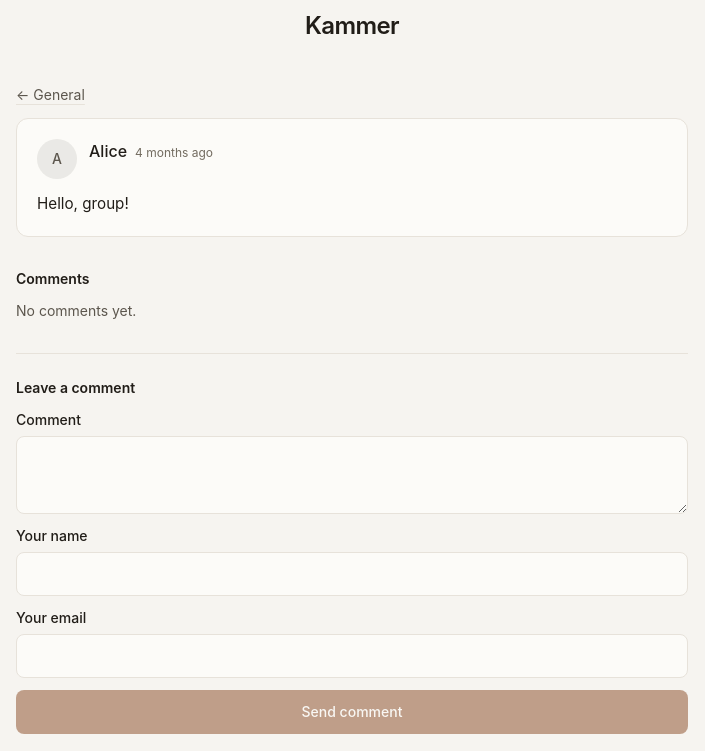
Test: public post page › POSTs the guest comment and shows the neutral confirmation on success
Expected: the text "Hello, group!" is shown, [37,194,129,213]
Step 1. Type "Nice post!" into the text box labelled "Comment" → (352, 475), box [16,436,688,514]
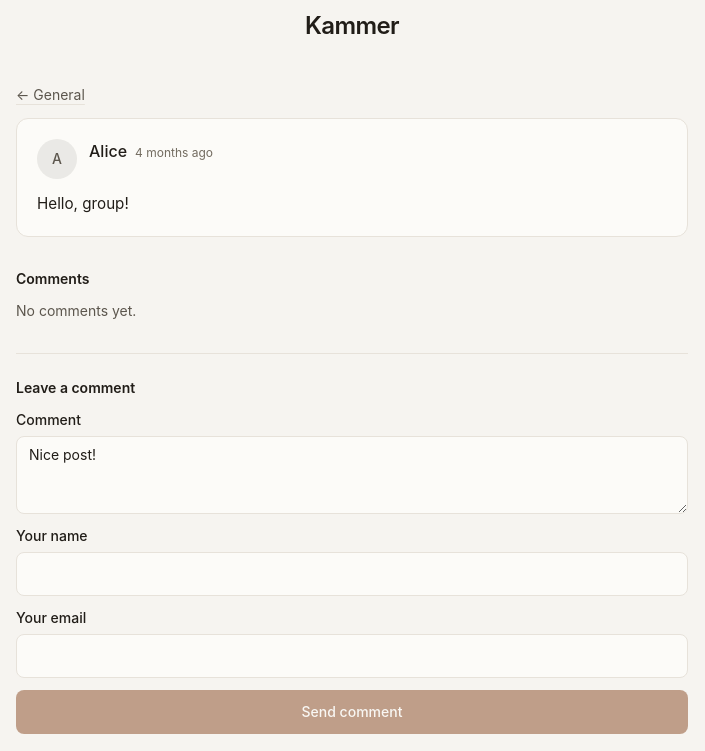
Step 2. Type "Bob" into the field labelled "Your name" → (352, 574), box [16,552,688,596]
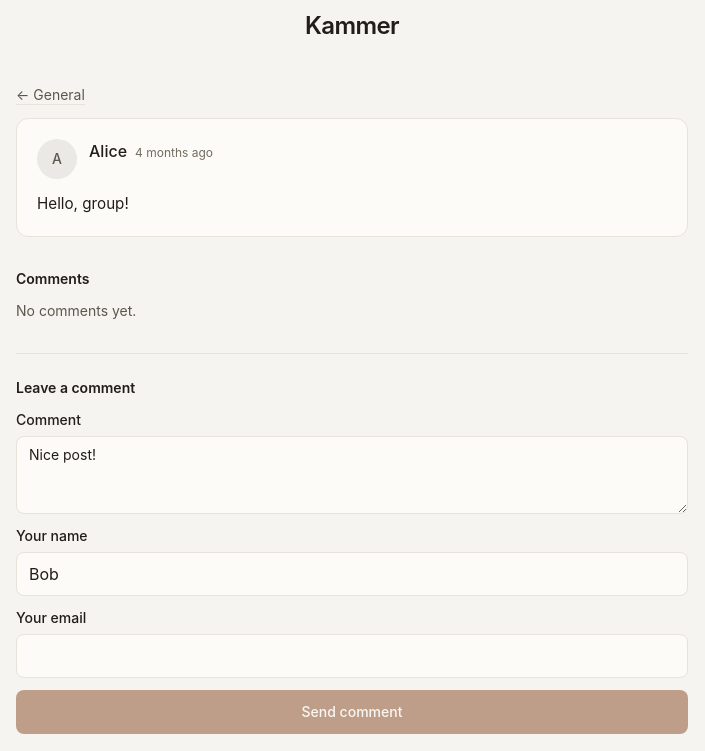
Step 3. Type "bob@example.com" into the field labelled "Your email" → (352, 656), box [16,634,688,678]
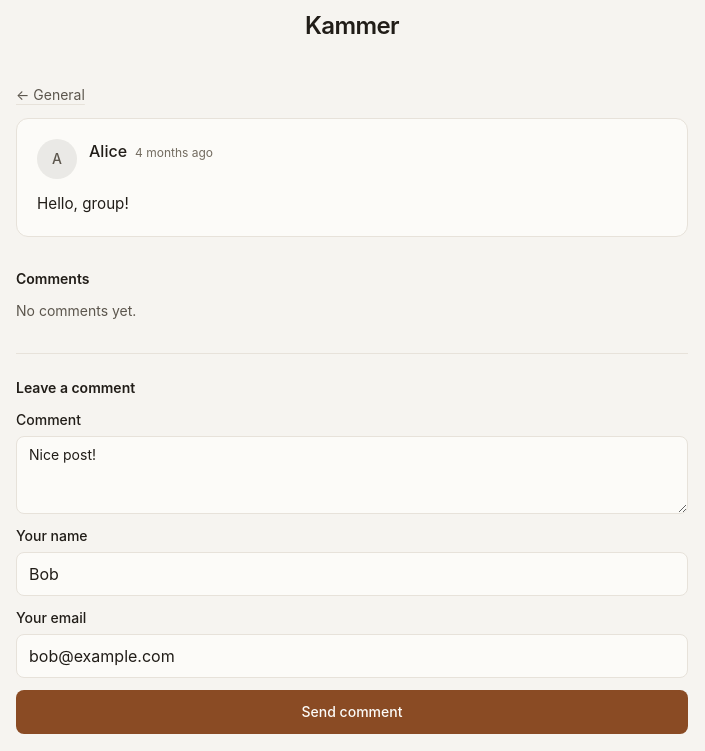
Step 4. Click the button "Send comment" → (352, 712), box [16,690,688,734]
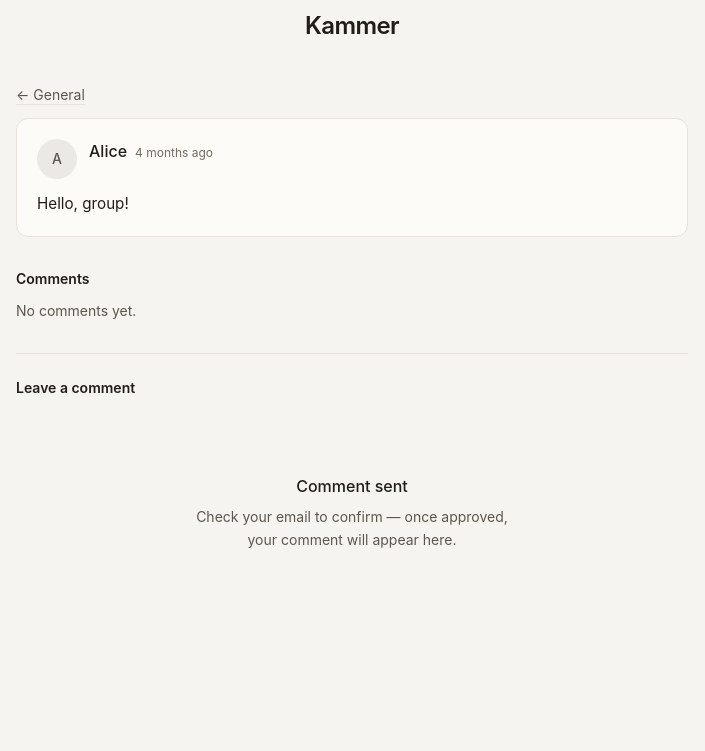
Now the heading "Comment sent" is shown, box [296,474,408,498]
